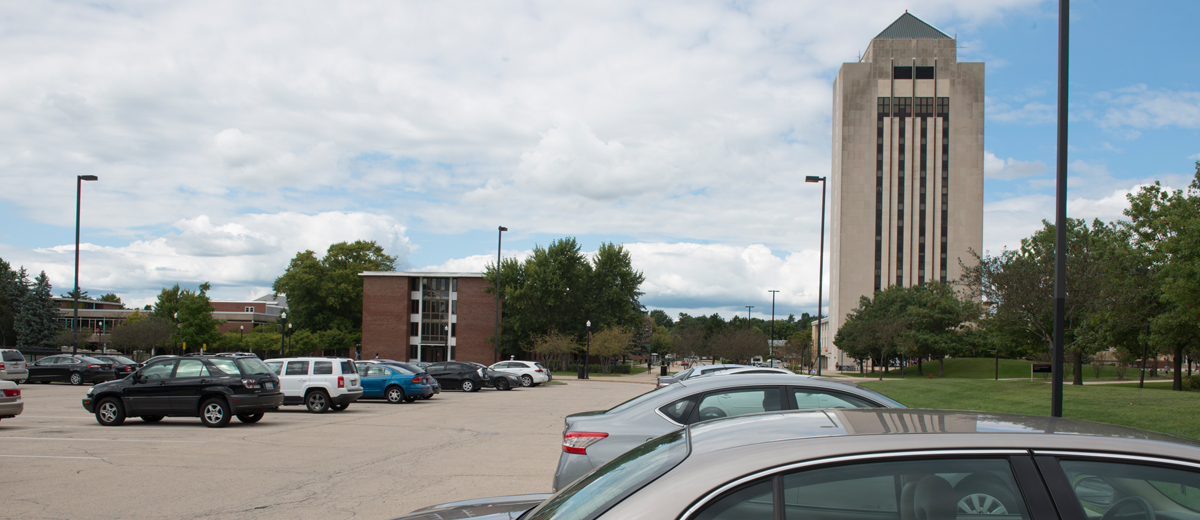empyt_space: (9, 422, 234, 456), (1, 428, 196, 466)
